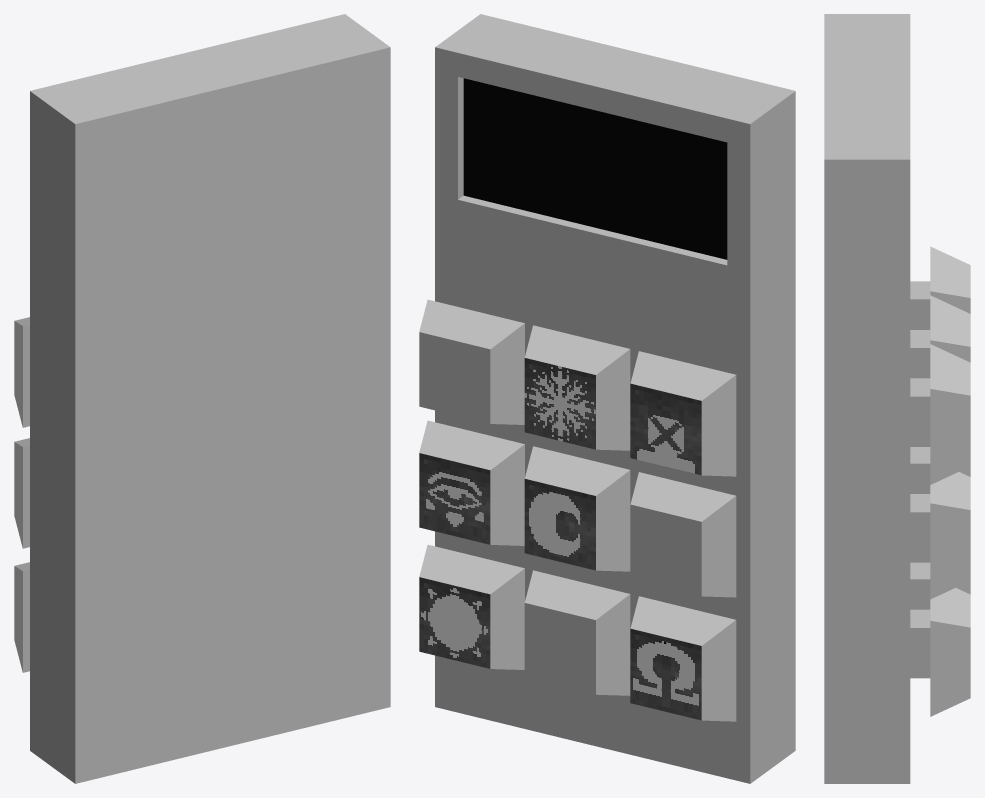
The model's file is Symbol Pad.fbx.
3 renders of one model, left to right at view 1: azimuth 30°, elevation 25°; view 2: azimuth 150°, elevation 25°; view 3: azimuth 270°, elevation 25°, orthographic. The views are drawn at different scales.
Parts seen in each view (by area): view 1: 0 Keypad, 6, 9, 3; view 2: 0 Keypad, 9, 6, 3, 5, 2, 8, 7, 4, 1; view 3: 0 Keypad, 1, 7, 4, 3, 2.
Part boxes in pixels (x1,y1,x2,y2): 0 Keypad: (30, 14, 390, 783); 6: (14, 438, 29, 548); 9: (14, 562, 29, 672); 3: (14, 317, 29, 427); 0 Keypad: (435, 14, 795, 783); 9: (630, 596, 736, 721); 6: (630, 472, 736, 597); 3: (630, 351, 736, 476); 5: (524, 446, 630, 571); 2: (524, 325, 630, 450); 8: (524, 570, 630, 695); 7: (419, 544, 524, 669); 4: (419, 420, 524, 545); 1: (419, 299, 524, 424); 0 Keypad: (824, 14, 930, 783); 1: (930, 344, 970, 484); 7: (930, 588, 970, 716); 4: (930, 472, 970, 599); 3: (930, 246, 970, 313); 2: (930, 295, 970, 362).
Size of the model in its own units: 50 by 100 by 21.28.
